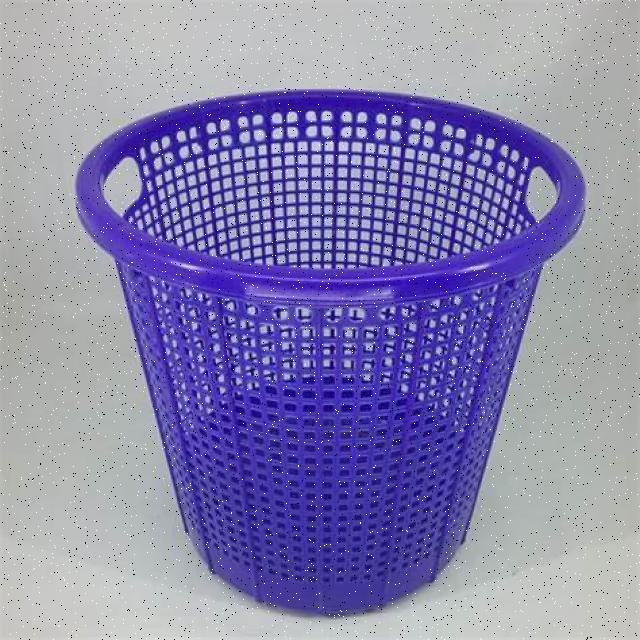garbage container: (56, 72, 594, 625)
